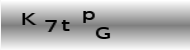7: (44, 19, 58, 32)
G: (95, 26, 110, 40)
K: (21, 12, 37, 27)
p: (81, 9, 96, 24)
t: (60, 19, 71, 31)
